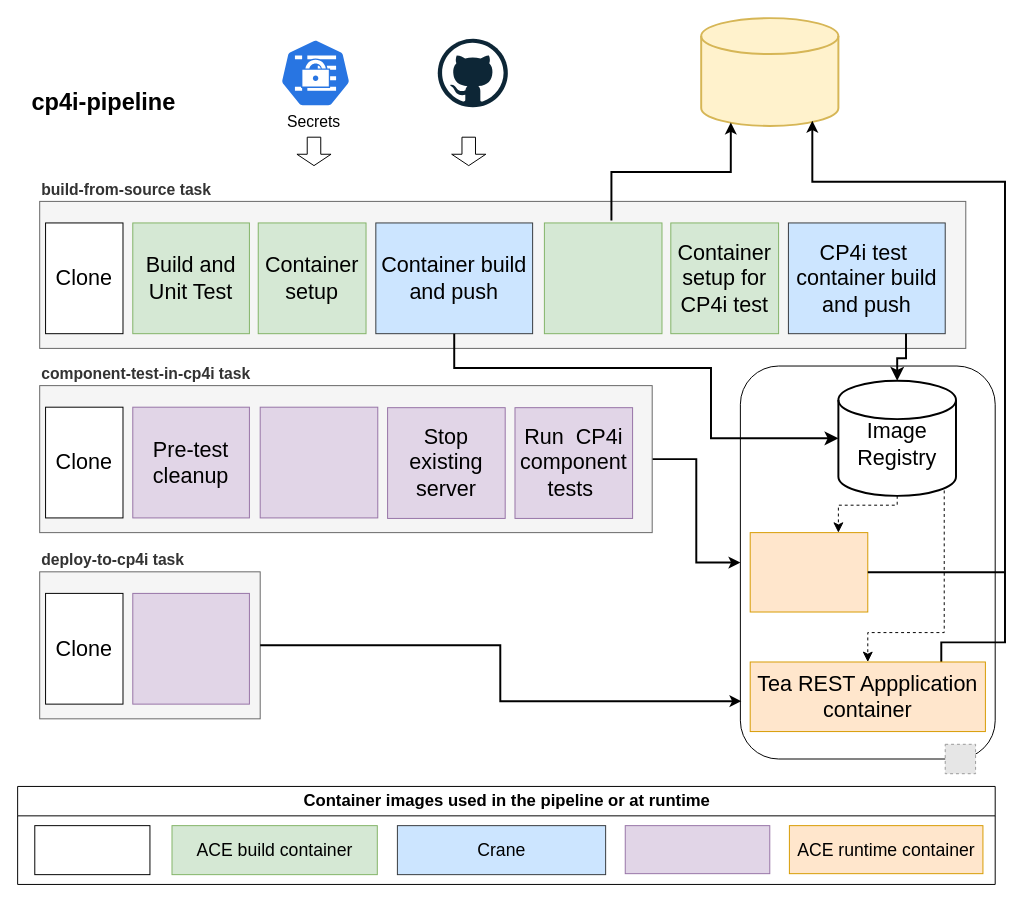
The diagram is 1030 pixels wide and 902 high, and some of its shapes have lost their labels. Grey dashed boxes stand in for pictures. Here are the shapes that lost their labels. From the top down, the centre of each, then its label:
the point at 472,72: ace-demo-pipeline
the point at 769,71: DB2oC
the point at 602,278: Component Test
the point at 318,462: Create test container
the point at 808,572: Tea test container
the point at 190,648: Deploy Integration Runtime
the point at 92,850: git-init
the point at 697,849: k8s-kubectl
